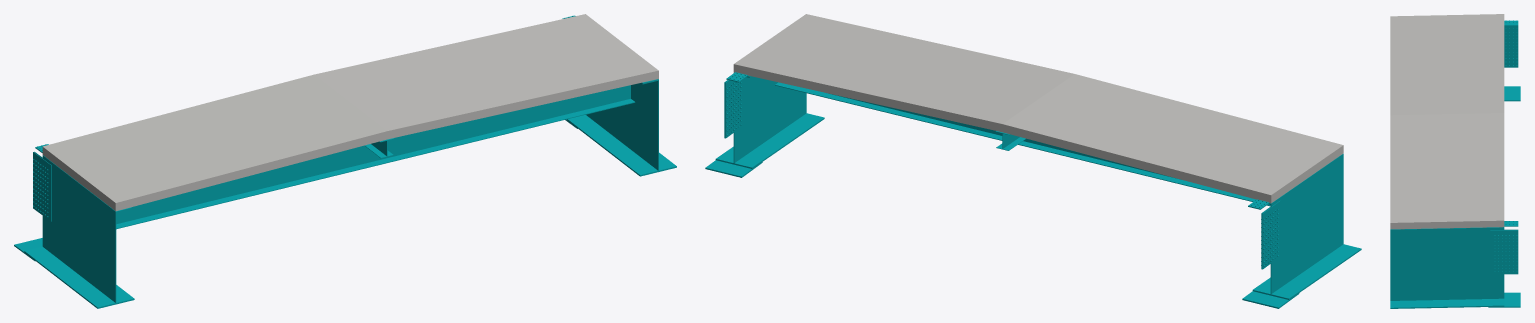
File: DECK_KS_N.glb
3 renders of one model, left to right at view 1: azimuth 30°, elevation 25°; view 2: azimuth 150°, elevation 25°; view 3: azimuth 270°, elevation 25°, orthographic. The views are drawn at different scales.
Visible parts, largest first — view 1: KS_N_Slab_7, KS_N_FB_web_3, KS_N_G_W_0, KS_N_G_E_1, KS_N_FB_bf_6, KS_N_SpliceW_9; view 2: KS_N_Slab_7, KS_N_G_W_0, KS_N_G_E_1, KS_N_FB_bf_6, KS_N_SpliceW_9, KS_N_SpliceW_17, KS_N_FB_web_3, KS_N_SpliceB_19, KS_N_SpliceB_11; view 3: KS_N_Slab_7, KS_N_G_E_1, KS_N_SpliceW_18, KS_N_SpliceW_10, KS_N_SpliceB_19, KS_N_SpliceB_11, KS_N_BoltW_22.
Boxes of the visible parts, x1,y1,x2,y2 form: KS_N_Slab_7: (42, 14, 658, 211); KS_N_FB_web_3: (116, 85, 630, 224); KS_N_G_W_0: (24, 155, 134, 308); KS_N_G_E_1: (567, 79, 676, 176); KS_N_FB_bf_6: (116, 99, 635, 229); KS_N_SpliceW_9: (33, 152, 51, 221); KS_N_Slab_7: (733, 14, 1343, 203); KS_N_G_W_0: (1252, 153, 1361, 299); KS_N_G_E_1: (715, 72, 824, 168); KS_N_FB_bf_6: (775, 82, 1270, 206); KS_N_SpliceW_9: (1262, 201, 1280, 269); KS_N_SpliceW_17: (725, 79, 743, 138); KS_N_FB_web_3: (829, 93, 1175, 178); KS_N_SpliceB_19: (705, 160, 762, 177); KS_N_SpliceB_11: (1242, 291, 1299, 308); KS_N_Slab_7: (1390, 14, 1504, 229); KS_N_G_E_1: (1390, 227, 1504, 308); KS_N_SpliceW_18: (1490, 230, 1518, 274); KS_N_SpliceW_10: (1504, 26, 1518, 67); KS_N_SpliceB_19: (1488, 292, 1520, 307); KS_N_SpliceB_11: (1504, 86, 1520, 101); KS_N_BoltW_22: (1494, 235, 1517, 272).
Size of the model in its own units: 18.26 by 3.32 by 4.57.
